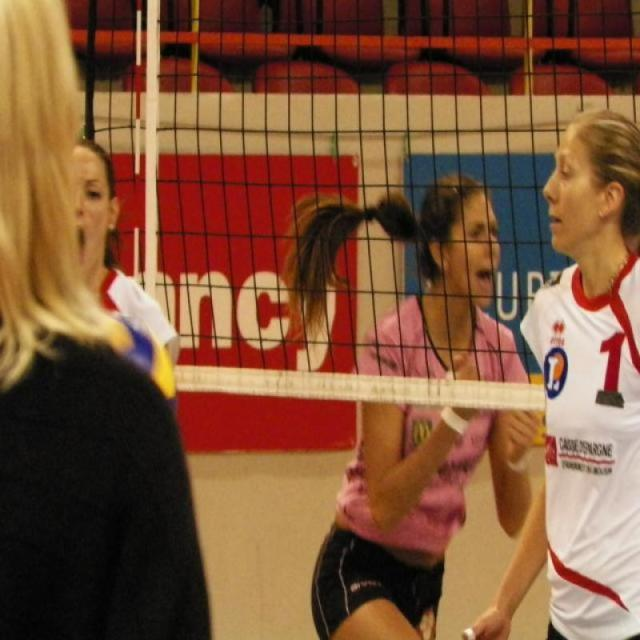volleyball: (89, 316, 180, 416)
